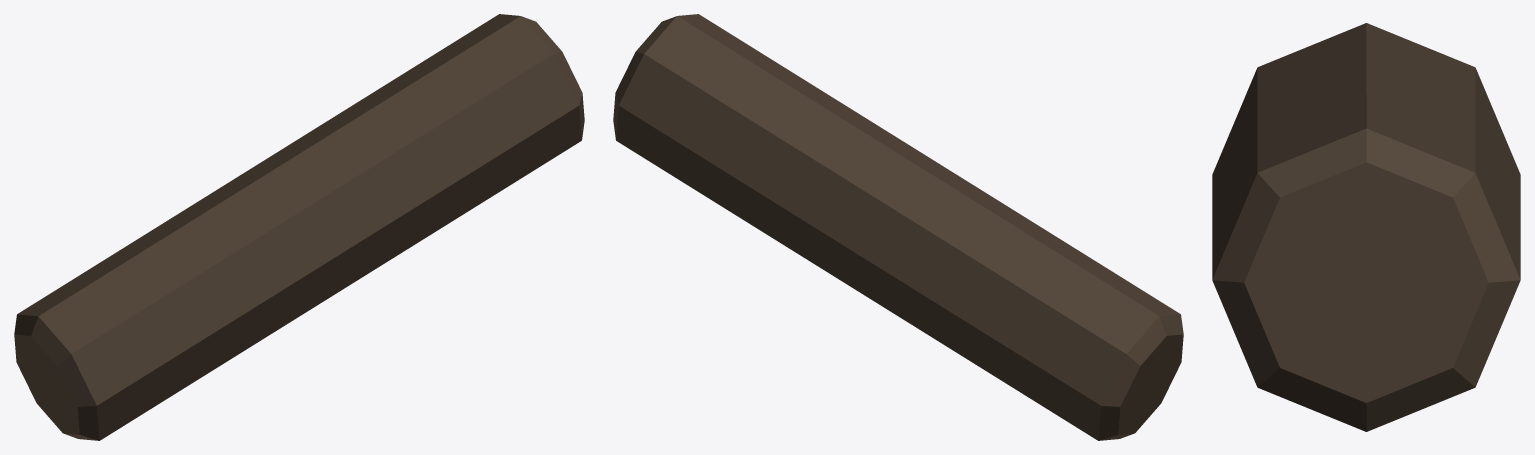
The model's file is Fireplace_Rustic_Log5.FBX.
The picture shows the model from 3 angles, left to right: view 1: azimuth 30°, elevation 25°; view 2: azimuth 150°, elevation 25°; view 3: azimuth 270°, elevation 25°; orthographic projection. The views are drawn at different scales.
Visible parts, largest first — view 1: Fireplace_Rustic_Log5; view 2: Fireplace_Rustic_Log5; view 3: Fireplace_Rustic_Log5.
Part boxes in pixels (x1,y1,x2,y2): Fireplace_Rustic_Log5: (14,14,584,440); Fireplace_Rustic_Log5: (613,14,1183,440); Fireplace_Rustic_Log5: (1212,23,1520,431).
Size of the model in its own units: 39.29 by 22.04 by 9.78.
Materials: 1 (1 with a texture image).
